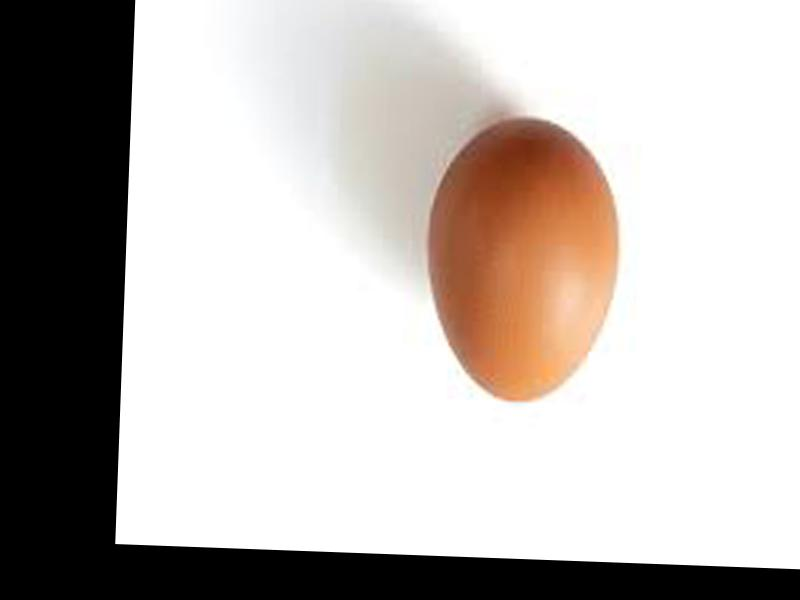Eggs: (423, 115, 620, 407)
